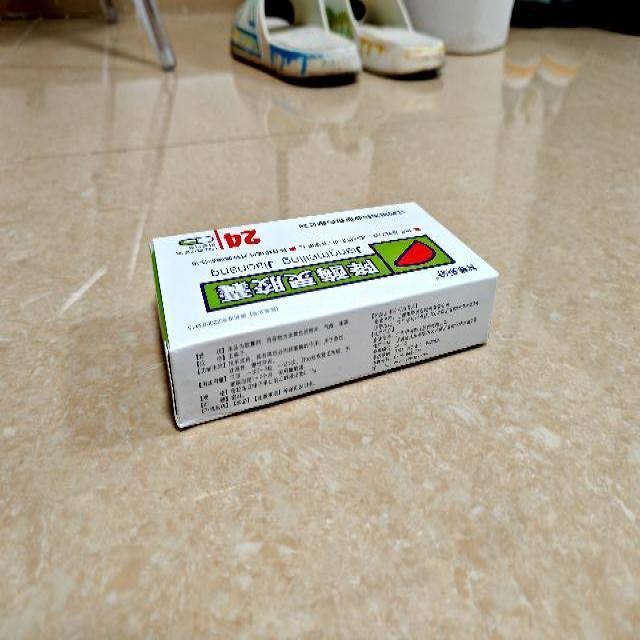box: (153, 200, 499, 428)
